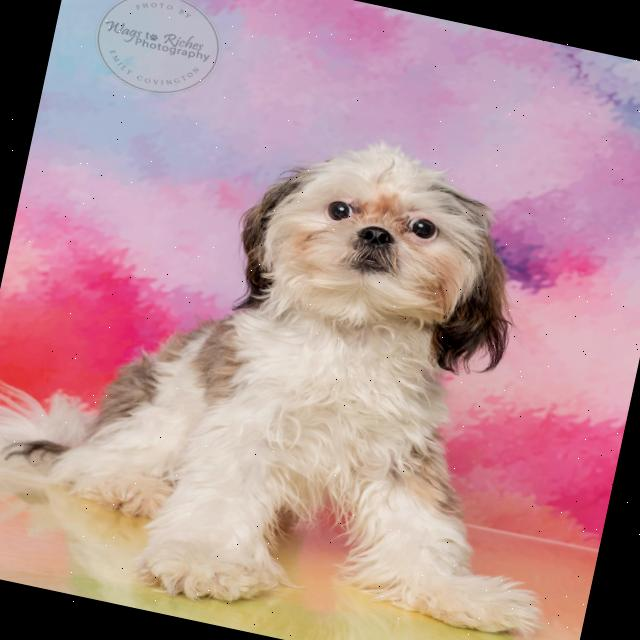shih_tzu_dog: (195, 110, 558, 416)
